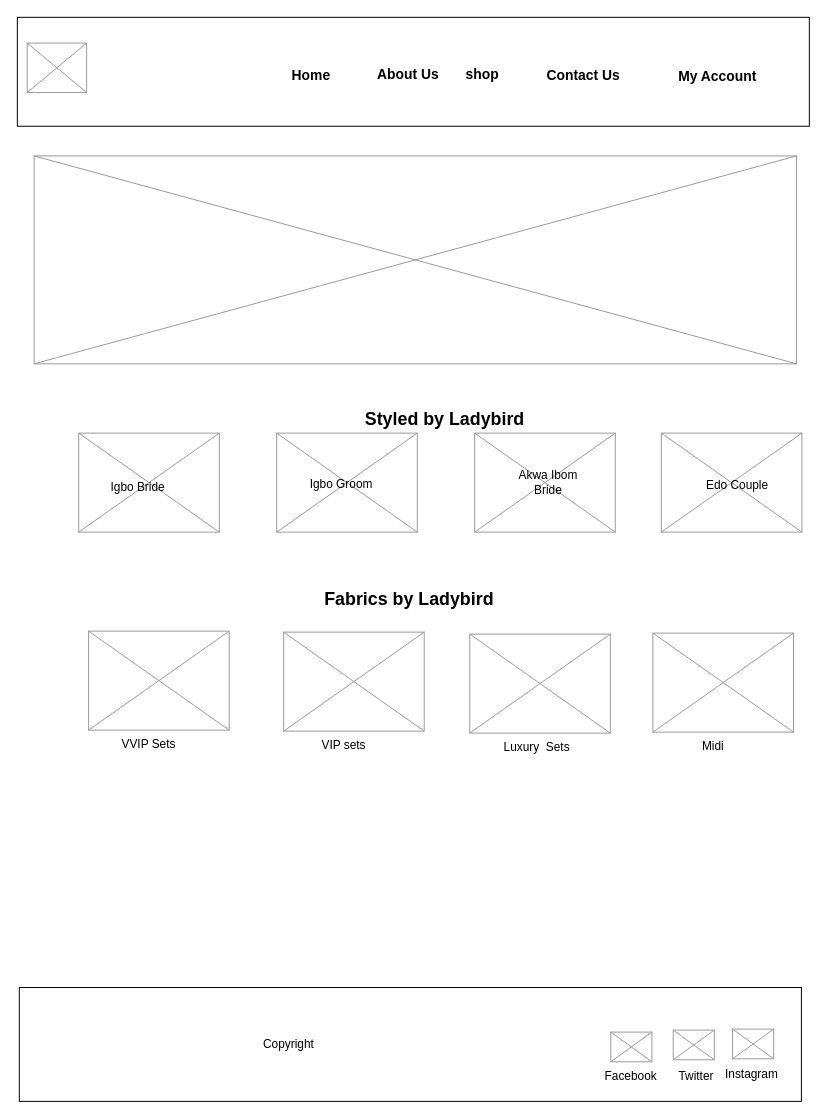
Image size: 827x1119. Some labels were removed from this diagram. Each missing label, with the centre of its shape:
Ladybird designs: (x=414, y=259)
Logo: (x=56, y=67)
